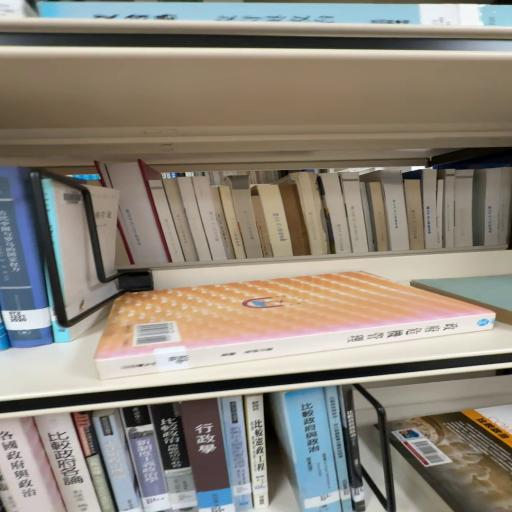flat: (94, 271, 495, 379), (390, 405, 512, 512), (411, 274, 512, 325)
